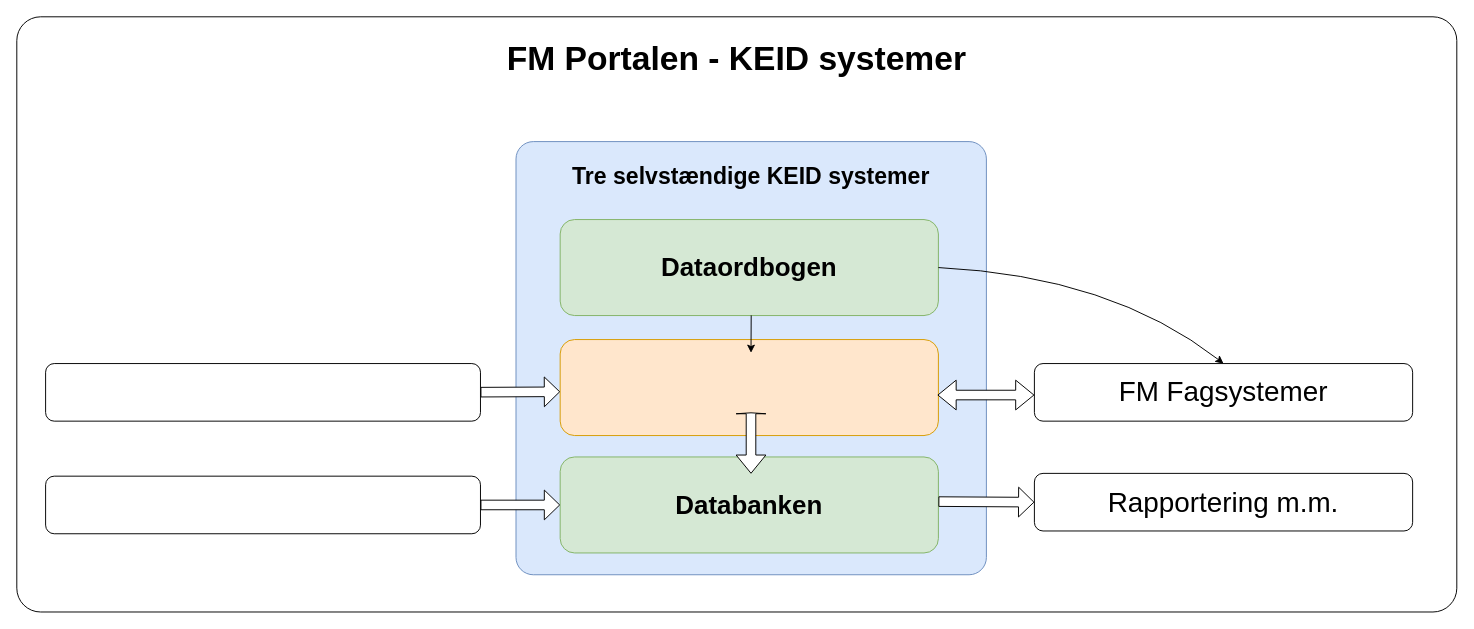
Image size: 1474x629. Some labels were removed from this diagram. Here are the shapes that lost their labels. From the top down, the centre of each, then its label:
[262,392]: Eksterne kilder direkte
[748,387]: Datahub
[262,504]: Eksterne kilder der transformeres
